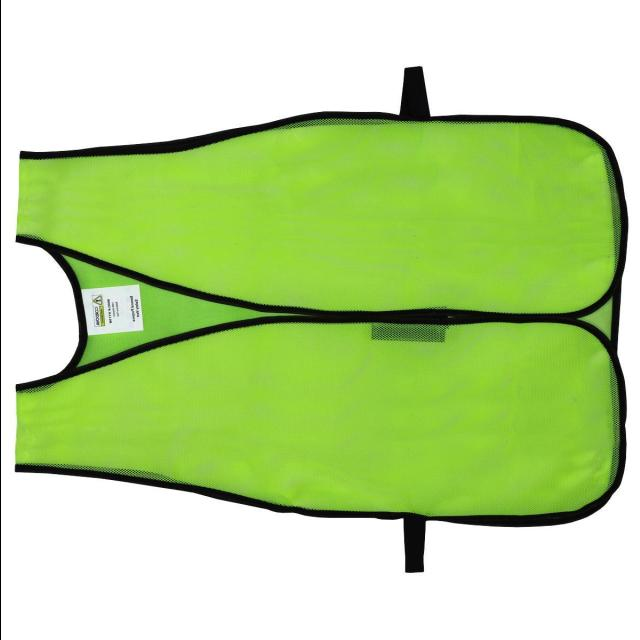jacket: (0, 62, 631, 573)
